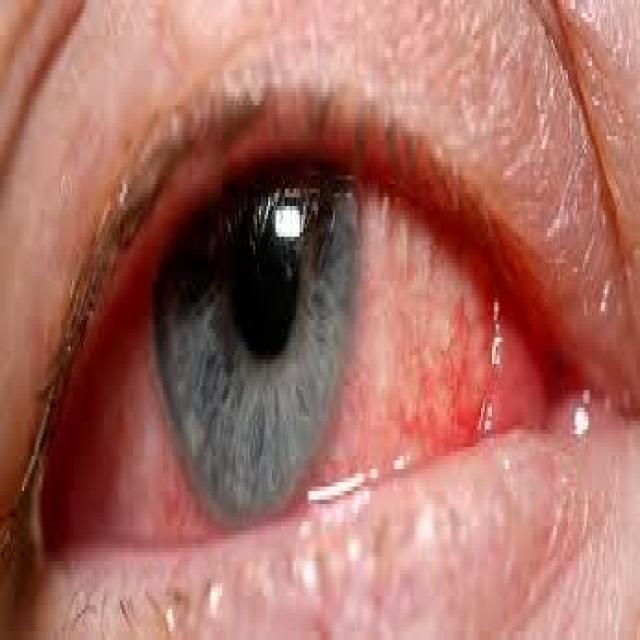Conjunctivitis: (38, 193, 613, 556)
